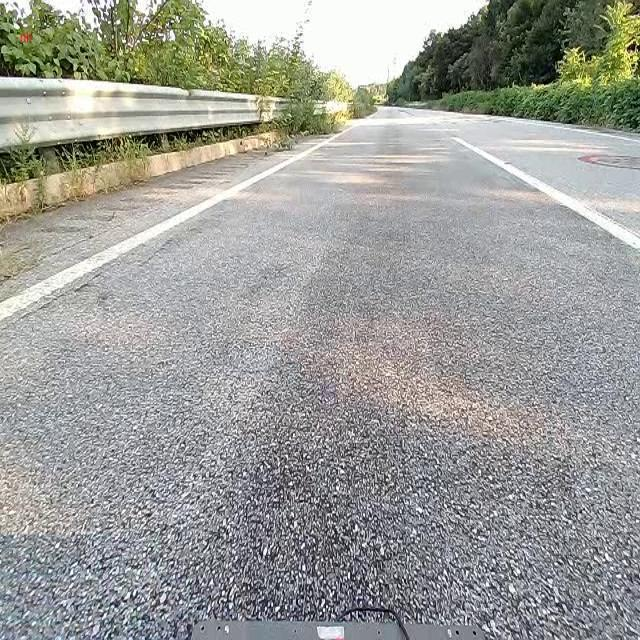Lane: (0, 118, 347, 323), (0, 135, 336, 323), (440, 125, 640, 260), (451, 137, 639, 250)
